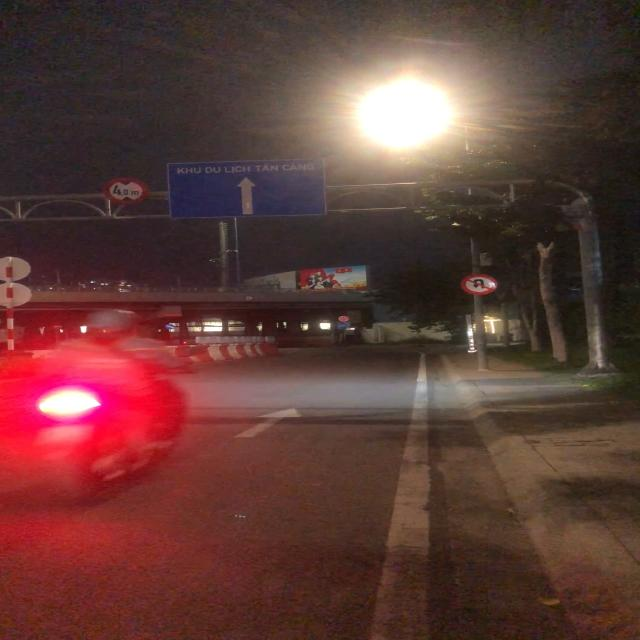Bien bao cam quay dau xe: (459, 272, 501, 296)
Bien bao han che chieu cao: (99, 176, 150, 206)
